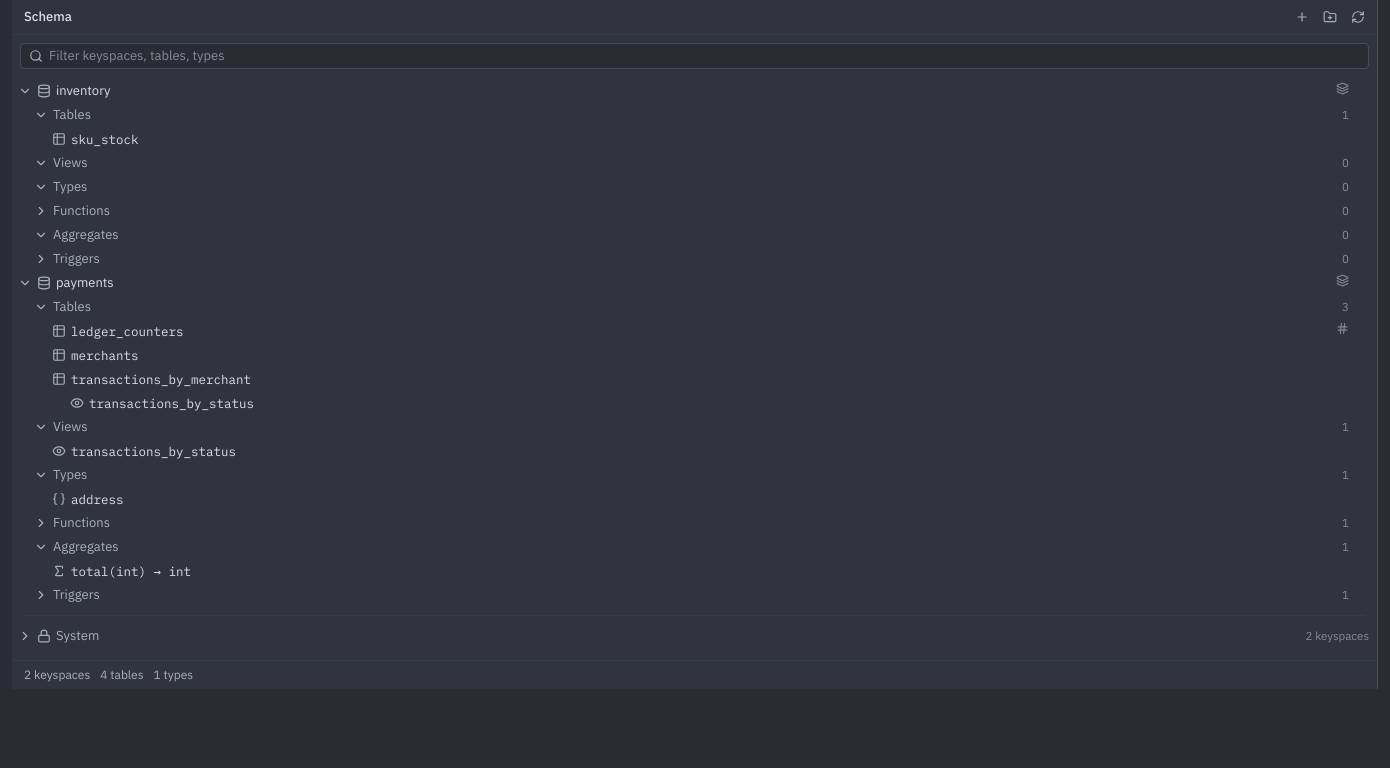
Test case: SchemaTree › filters
In the field named "Filter schema": (704, 56) left=49, top=47, right=1360, bottom=65, type "ledger"
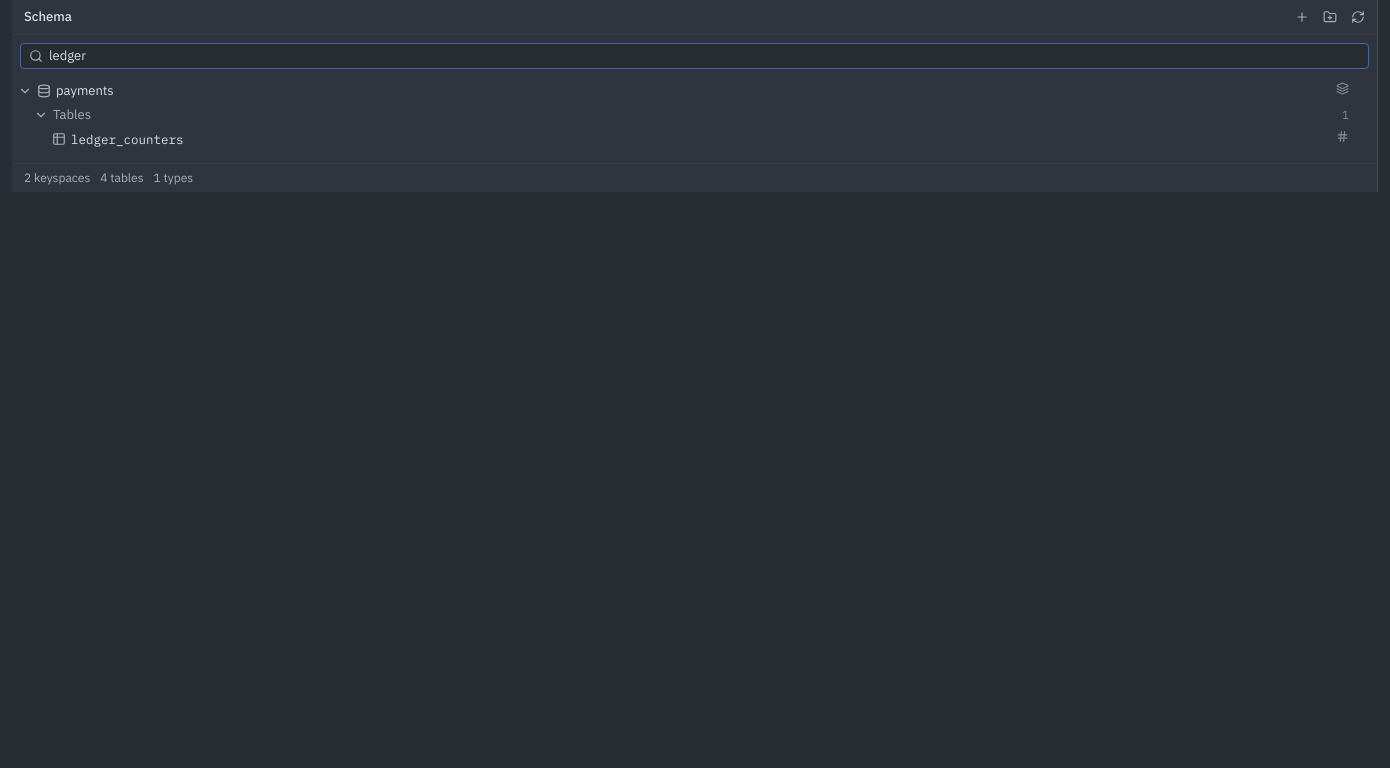
Expected: the list item "ledger_counters" is shown, left=12, top=127, right=1377, bottom=151
Now the list item "merchants" is gone
